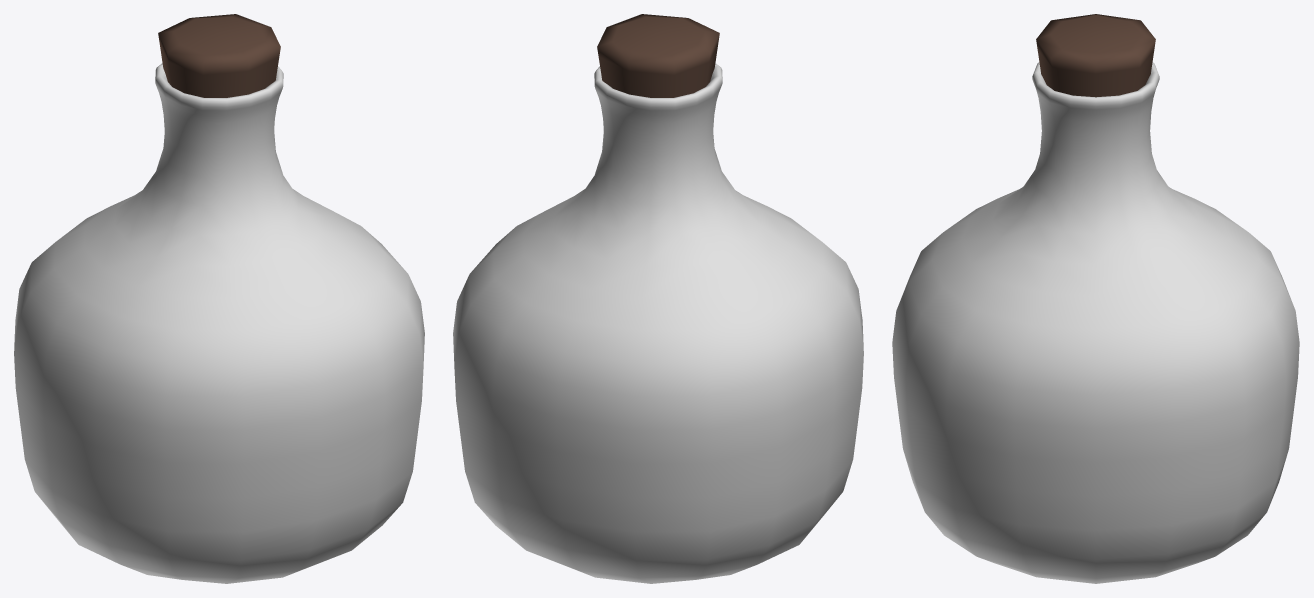
Rendered from potion2_empty.glb.
3 views of the same model, side by side, from view 1: azimuth 30°, elevation 25°; view 2: azimuth 150°, elevation 25°; view 3: azimuth 270°, elevation 25° (orthographic).
Visible parts, largest first — view 1: Potion2_Empty; view 2: Potion2_Empty; view 3: Potion2_Empty.
Part boxes in pixels (x1=…): Potion2_Empty: x1=14, y1=14, x2=424, y2=583; Potion2_Empty: x1=453, y1=14, x2=863, y2=583; Potion2_Empty: x1=892, y1=14, x2=1299, y2=583.
Size of the model in its own units: 0.8768 by 1.22 by 0.8768.
